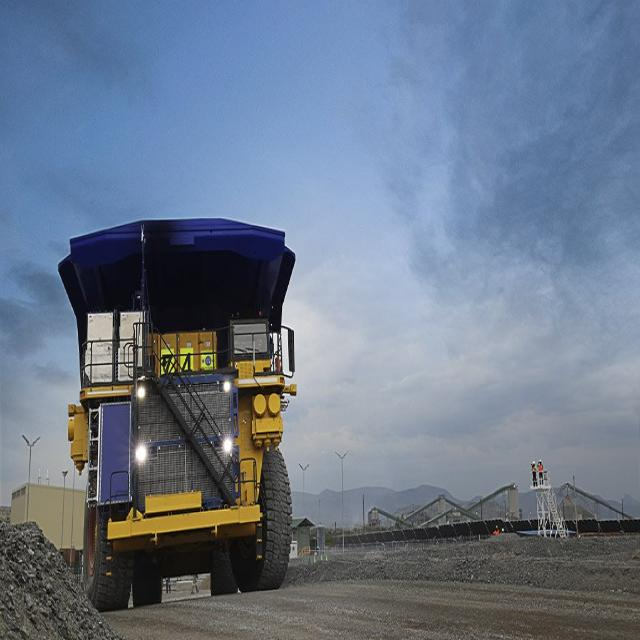dump_truck: (57, 193, 320, 603)
